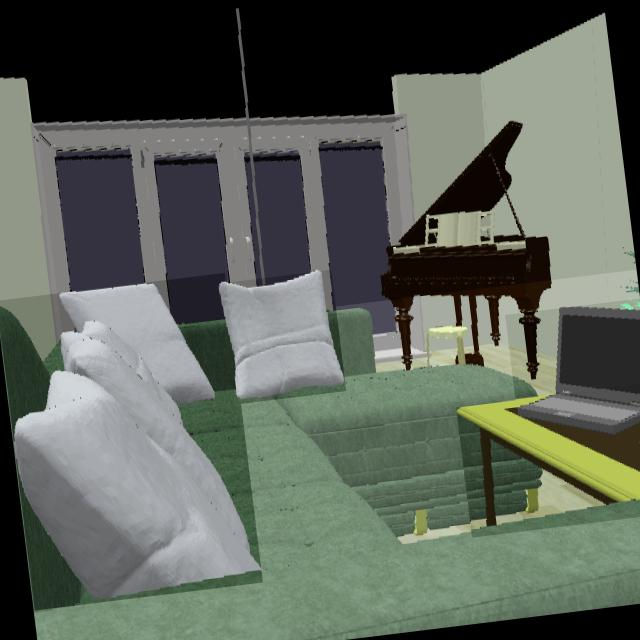laptop: (517, 308, 640, 439)
pillow: (13, 287, 261, 601), (218, 272, 345, 400)
sofa: (16, 307, 640, 640)
table: (458, 402, 640, 506)
